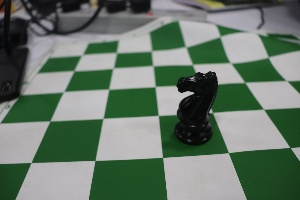black_horse: (158, 49, 221, 152)
